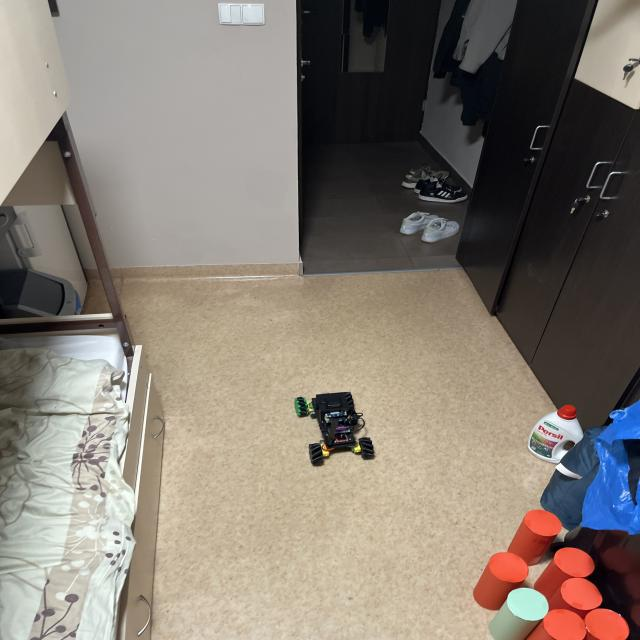robot: (294, 392, 375, 466)
